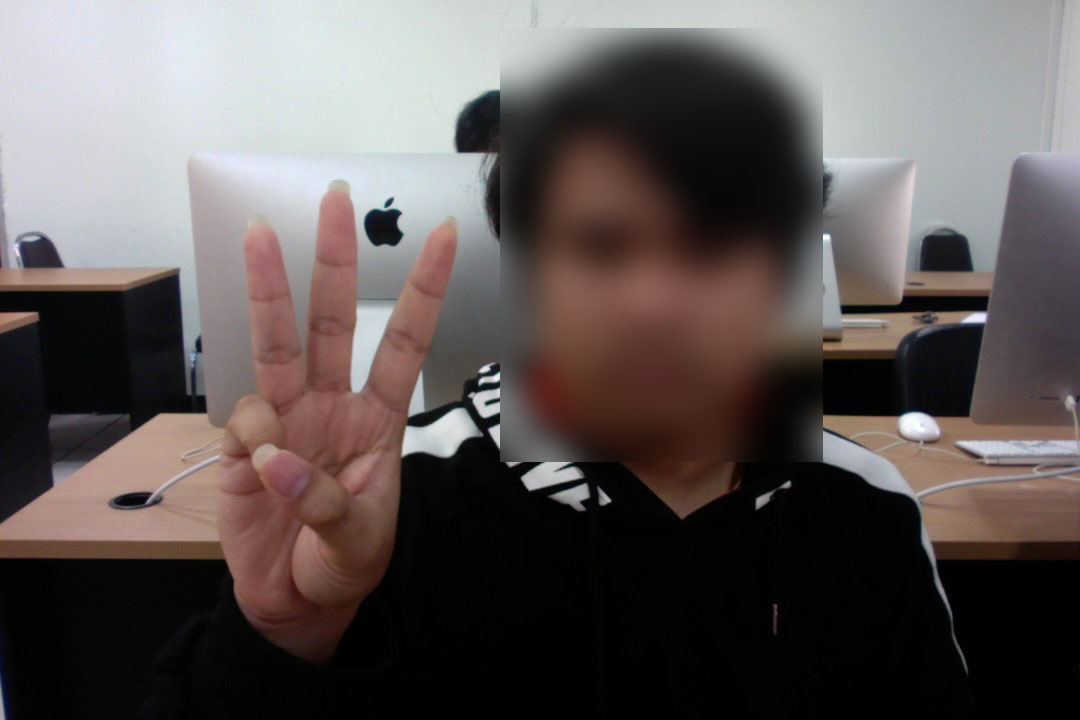wor: (182, 166, 465, 666)
